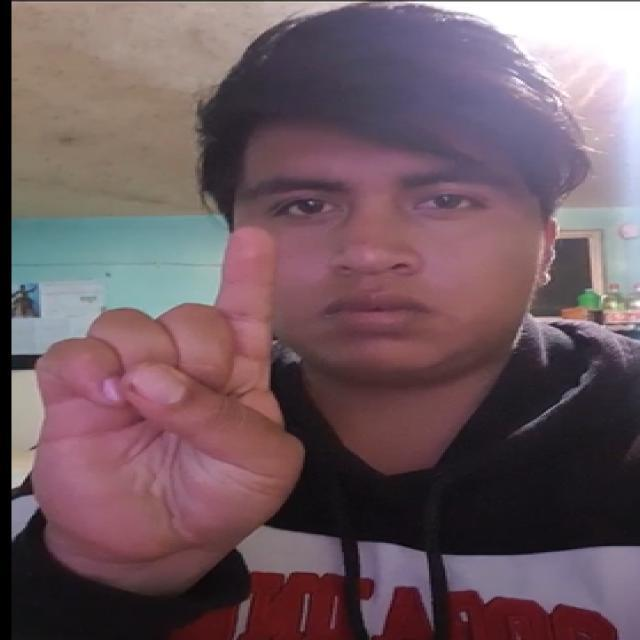D: (35, 235, 342, 539)
